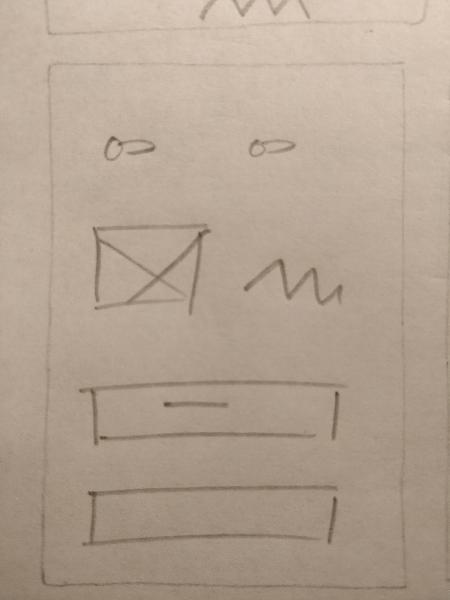button: (72, 376, 358, 452)
image: (80, 218, 219, 319)
switch: (92, 130, 169, 165), (237, 129, 313, 164)
text: (236, 246, 358, 315)
text_input: (71, 475, 357, 552)
